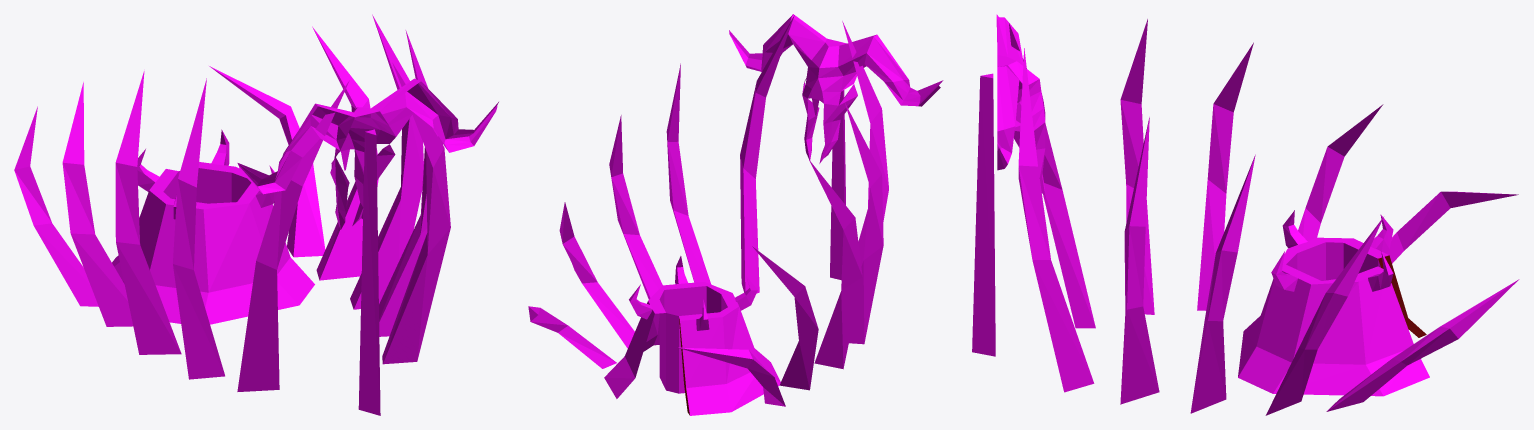
File: cave temple alter.obj
3 renders of one model, left to right at view 1: azimuth 30°, elevation 25°; view 2: azimuth 150°, elevation 25°; view 3: azimuth 270°, elevation 25°, orthographic. The views are drawn at different scales.
Parts seen in each view (by area): view 1: cave temple alter_back; view 2: cave temple alter_back; view 3: cave temple alter_back.
Boxes of the visible parts, x1,y1,x2,y2 form: cave temple alter_back: (14, 14, 498, 415); cave temple alter_back: (528, 14, 943, 415); cave temple alter_back: (972, 14, 1519, 415).
Size of the model in its own units: 4.4 by 4.4 by 6.72.
